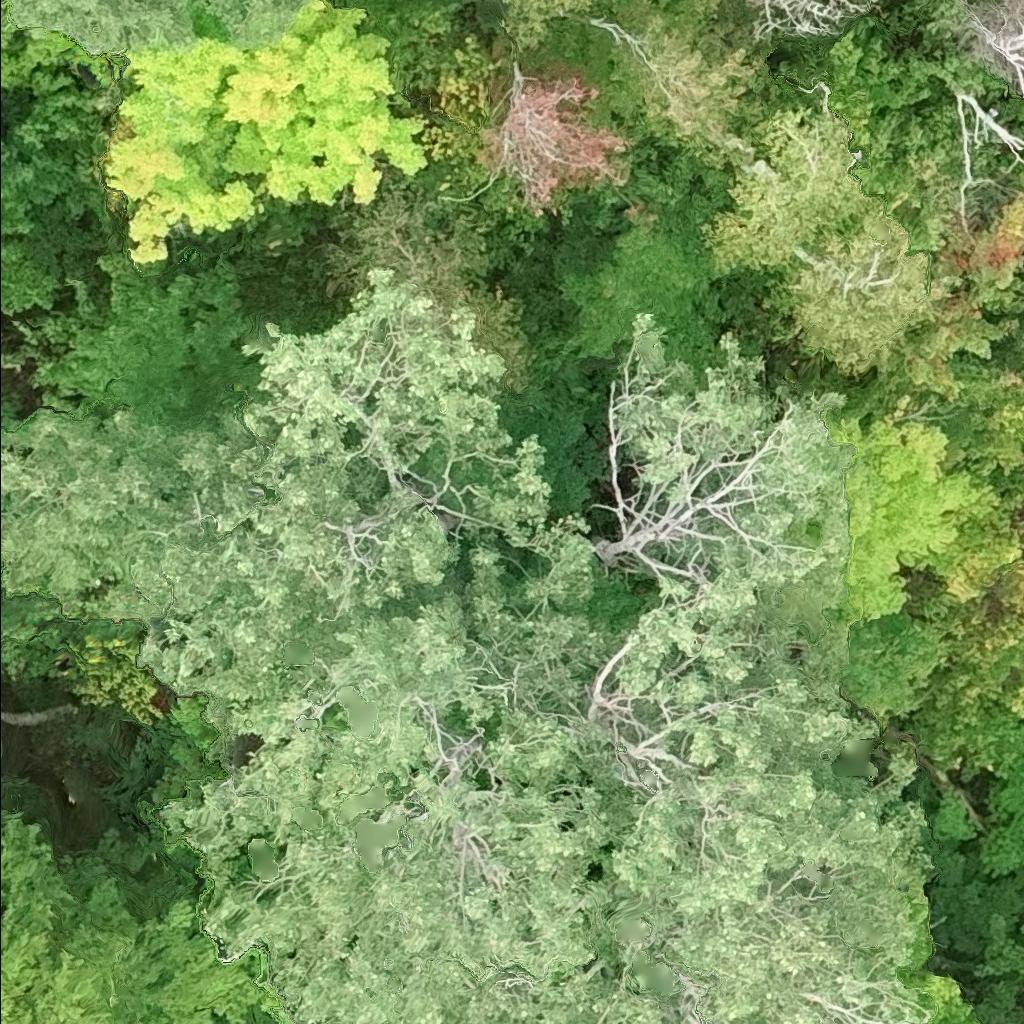crown: (157, 513, 661, 983), (139, 265, 559, 745), (618, 308, 881, 767), (584, 745, 929, 1023), (104, 0, 433, 268), (0, 807, 268, 1023), (819, 392, 1022, 629), (18, 247, 256, 432), (0, 398, 178, 635), (260, 942, 667, 1023), (877, 190, 1023, 413), (695, 104, 876, 280), (478, 66, 634, 238), (789, 211, 934, 374), (843, 604, 965, 723), (971, 886, 1023, 1023), (500, 0, 598, 55), (980, 393, 1023, 472), (451, 0, 504, 34), (251, 985, 288, 1023), (1002, 313, 1023, 367), (1019, 166, 1023, 184), (1020, 102, 1023, 113)
